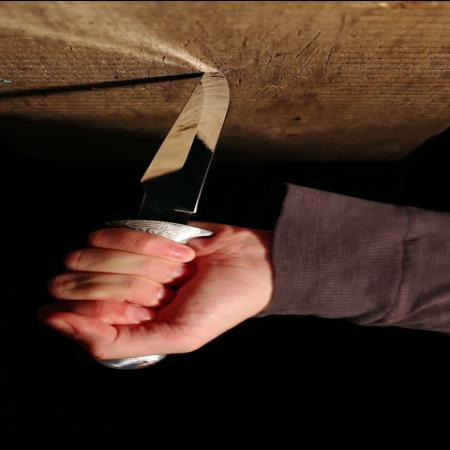long weapon: (37, 58, 239, 306)
